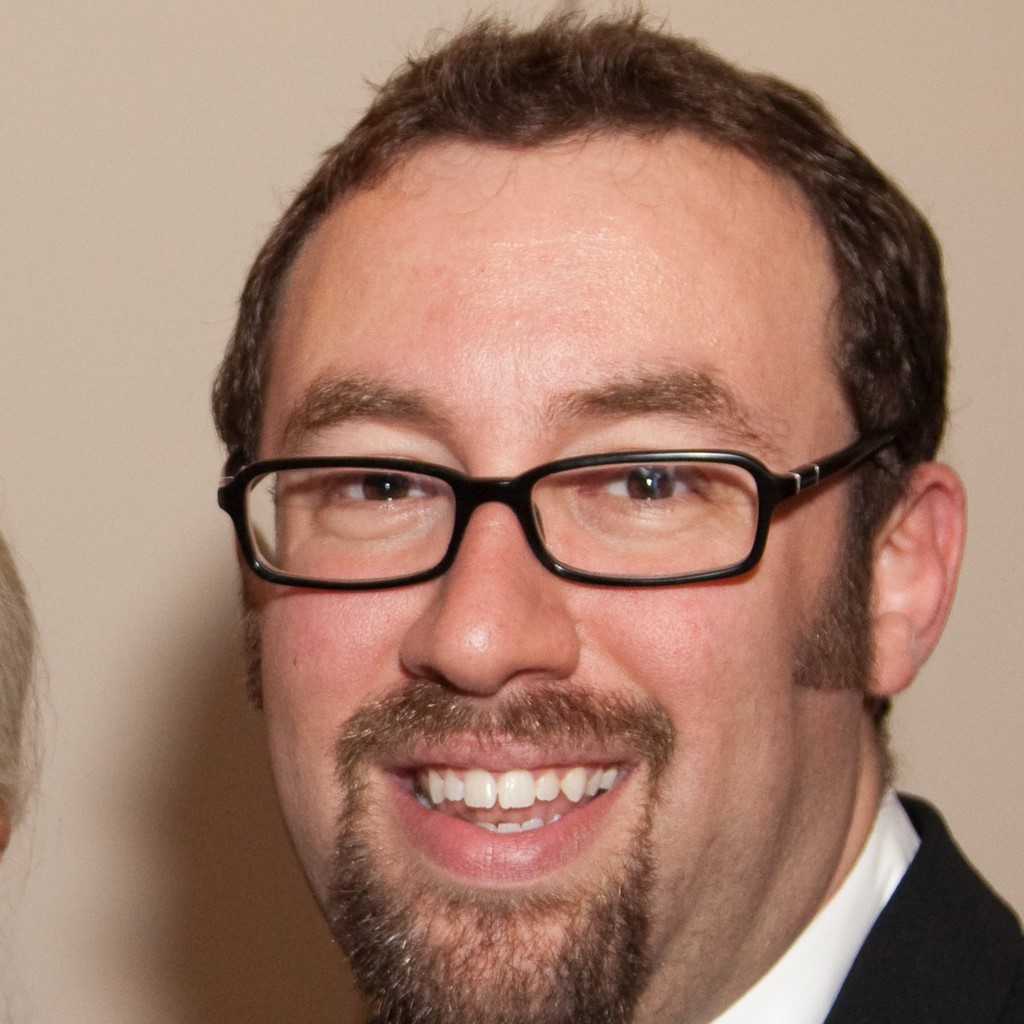sin_mascara: (238, 85, 892, 996)
